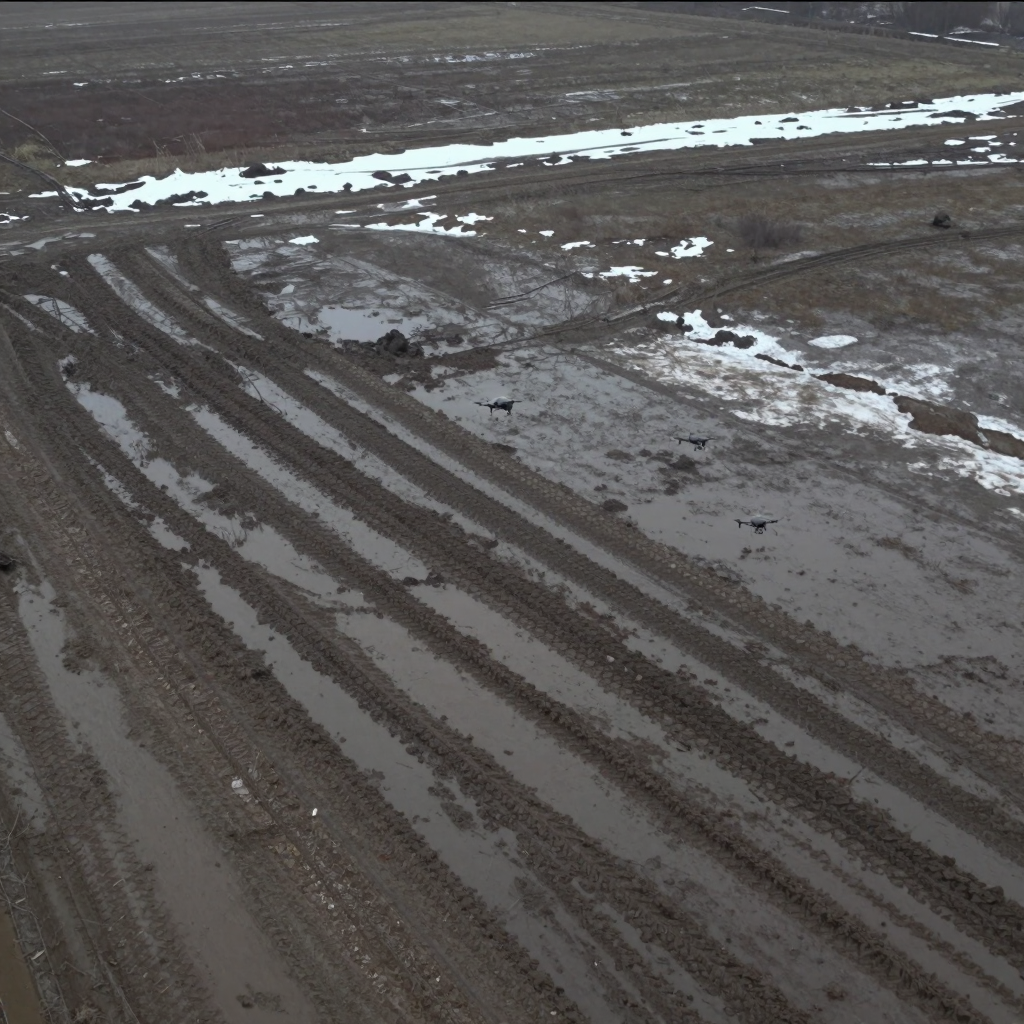drone: (473, 397, 523, 417), (671, 432, 716, 451), (733, 516, 779, 534)
